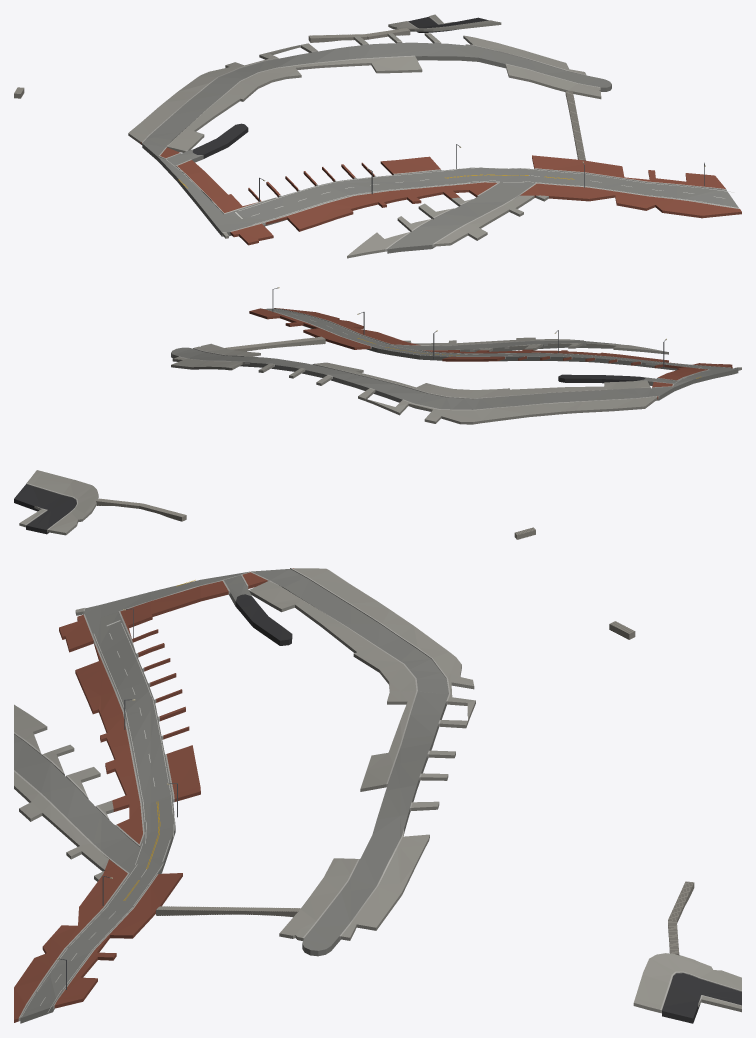
3 views of the same model, one above another, from view 1: azimuth 30°, elevation 25°; view 2: azimuth 150°, elevation 25°; view 3: azimuth 270°, elevation 25° (orthographic). The views are drawn at different scales.
Bounding box in the file's own units: 149 × 33.85 × 146.
